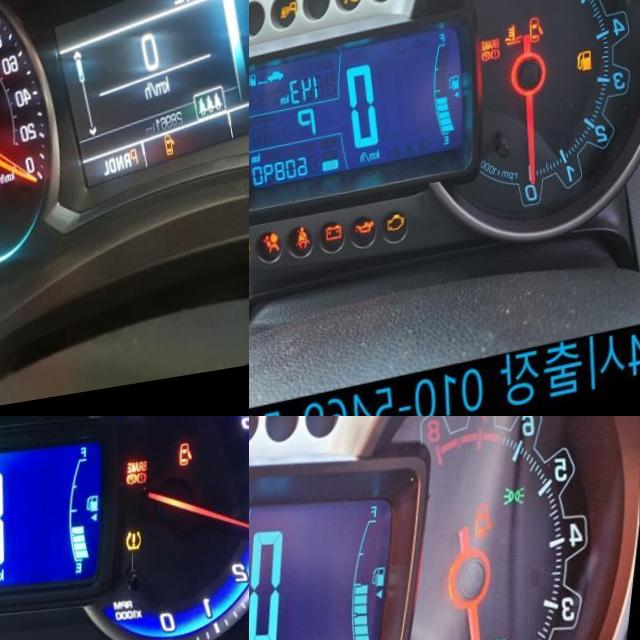Doors: (530, 29, 546, 57), (165, 141, 178, 165)
Engine cooling system: (505, 37, 525, 60)
Low fuel level: (577, 63, 594, 90)
SideLamp: (504, 498, 529, 525)
